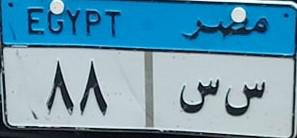8: (39, 56, 74, 122), (78, 60, 108, 120)
س: (169, 70, 228, 134), (218, 64, 270, 128)
